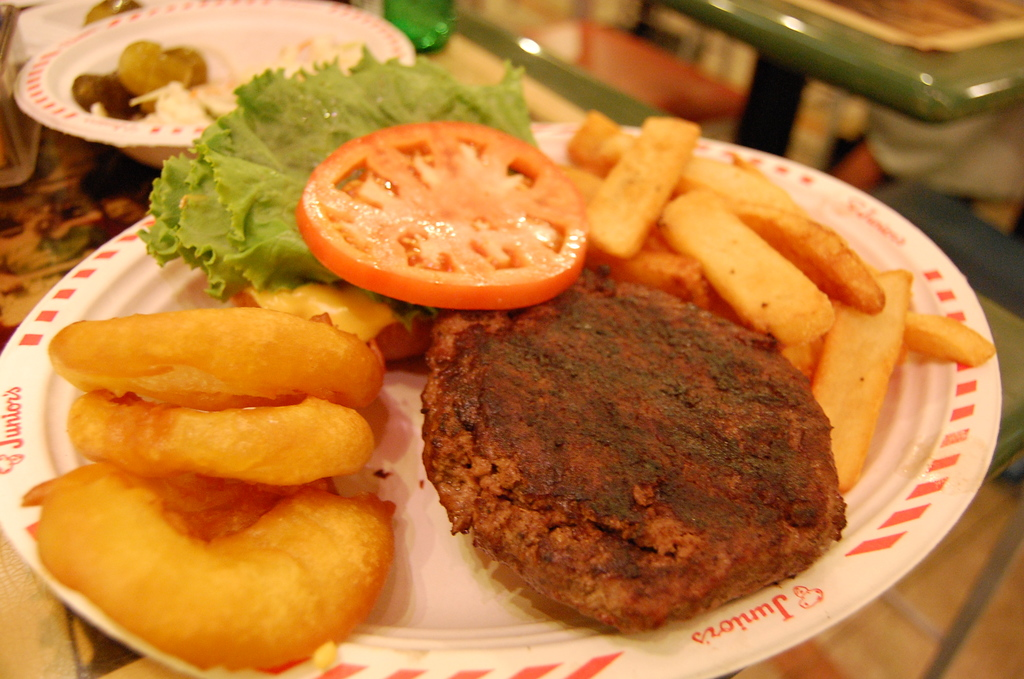French fries: (570, 121, 942, 458)
